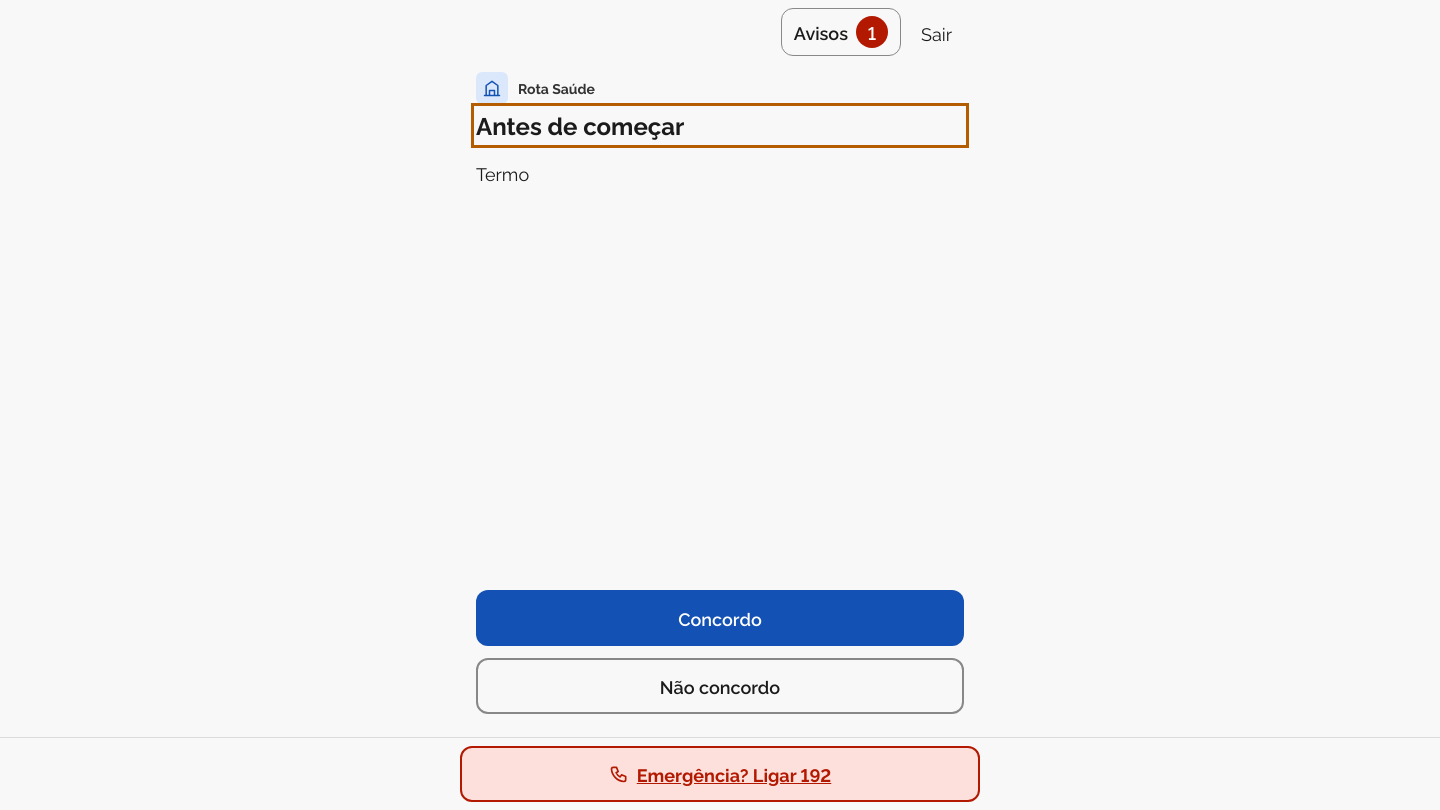
Test case: Flow — link Avisos no topo › da tela do termo: a caixa abre sem aceitar o termo, e voltar leva ao termo
The width and height of the screenshot is (1440, 810).
expect the button "Concordo" is shown: met, box [476,590,964,646]
Click the link with aria-label "Avisos, 1 novo" at (841, 32), box [781,8,901,56]
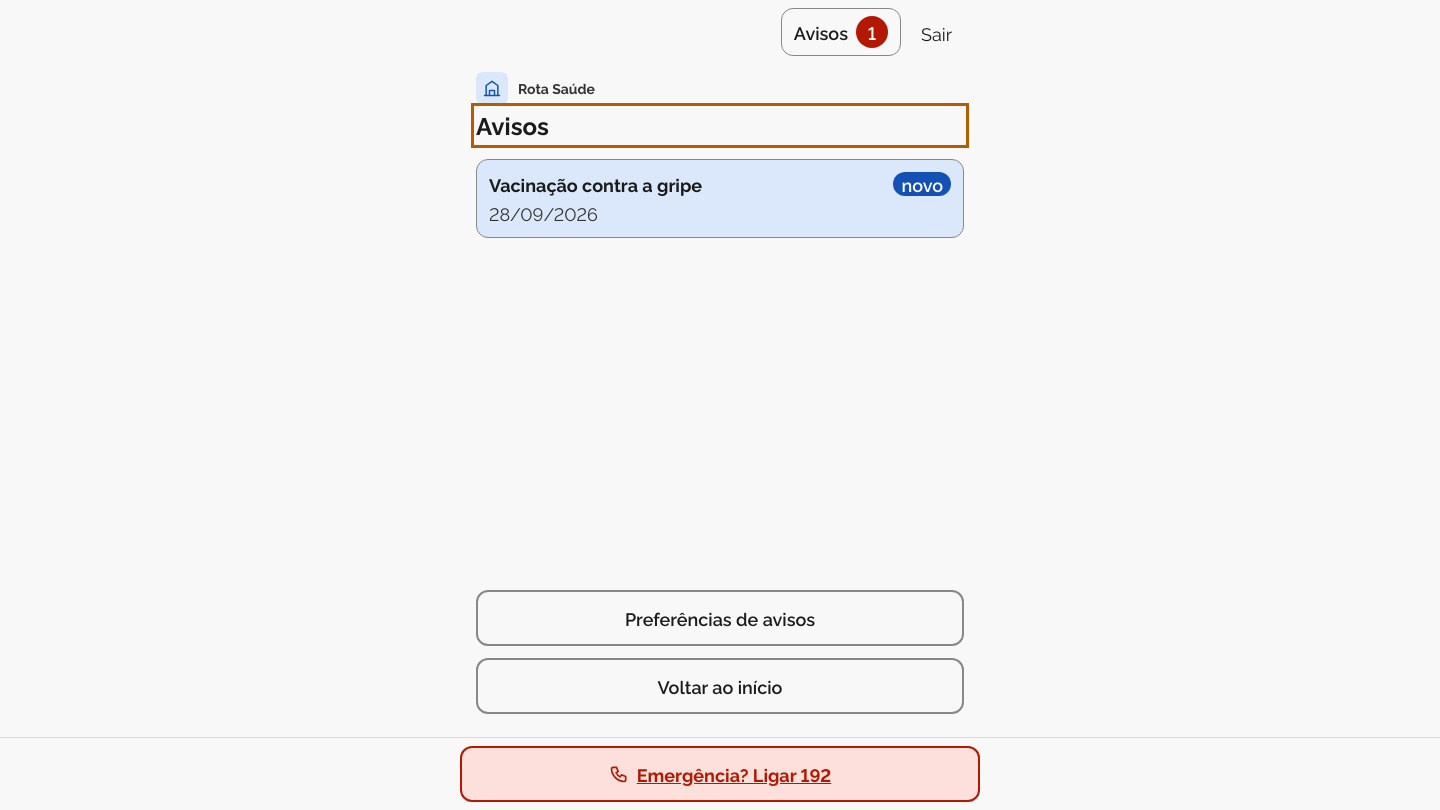
expect the heading "Avisos" is shown: met, box [476,108,549,141]
Click the button "Voltar ao início" at (720, 686), box [476,658,964,714]
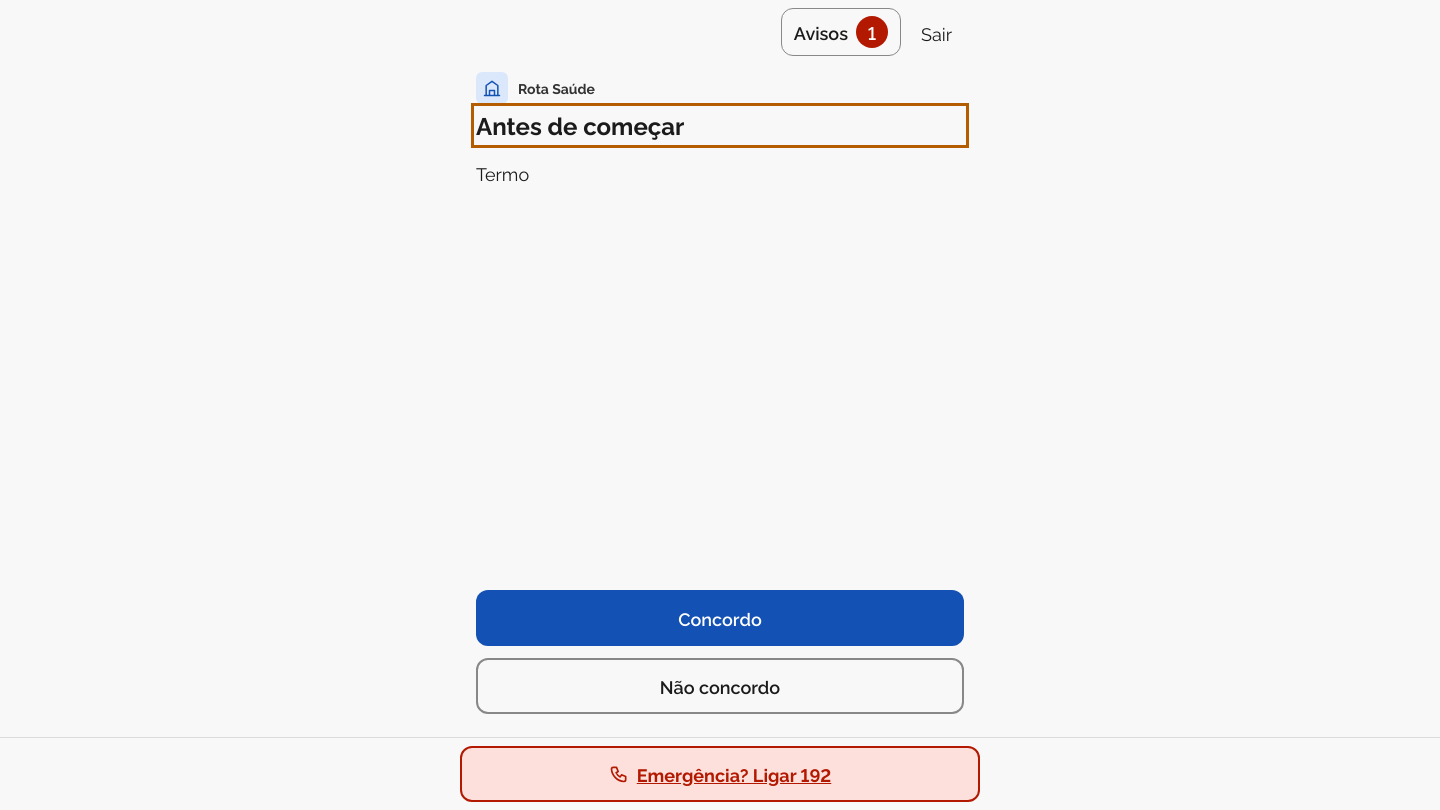
expect the button "Concordo" is shown: met, box [476,590,964,646]
